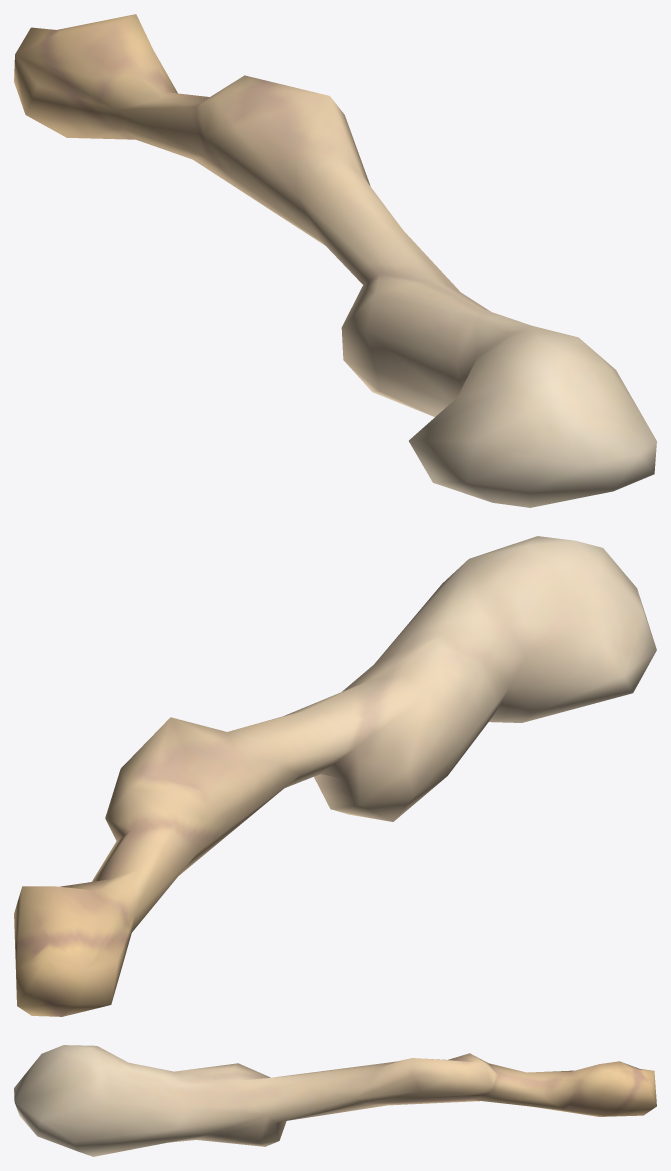
The model's file is Vd_Candle_Drip_A.fbx.
The picture shows the model from 3 angles, top to bottom: view 1: azimuth 30°, elevation 25°; view 2: azimuth 150°, elevation 25°; view 3: azimuth 270°, elevation 25°; orthographic projection. The views are drawn at different scales.
Parts seen in each view (by area): view 1: Vd_Candle_Drip_A; view 2: Vd_Candle_Drip_A; view 3: Vd_Candle_Drip_A.
Boxes of the visible parts, x1=… form: Vd_Candle_Drip_A: x1=14, y1=14, x2=656, y2=507; Vd_Candle_Drip_A: x1=14, y1=536, x2=656, y2=1016; Vd_Candle_Drip_A: x1=14, y1=1045, x2=656, y2=1156.
Bounding box in the file's own units: 20.02 × 17.13 × 94.24.
